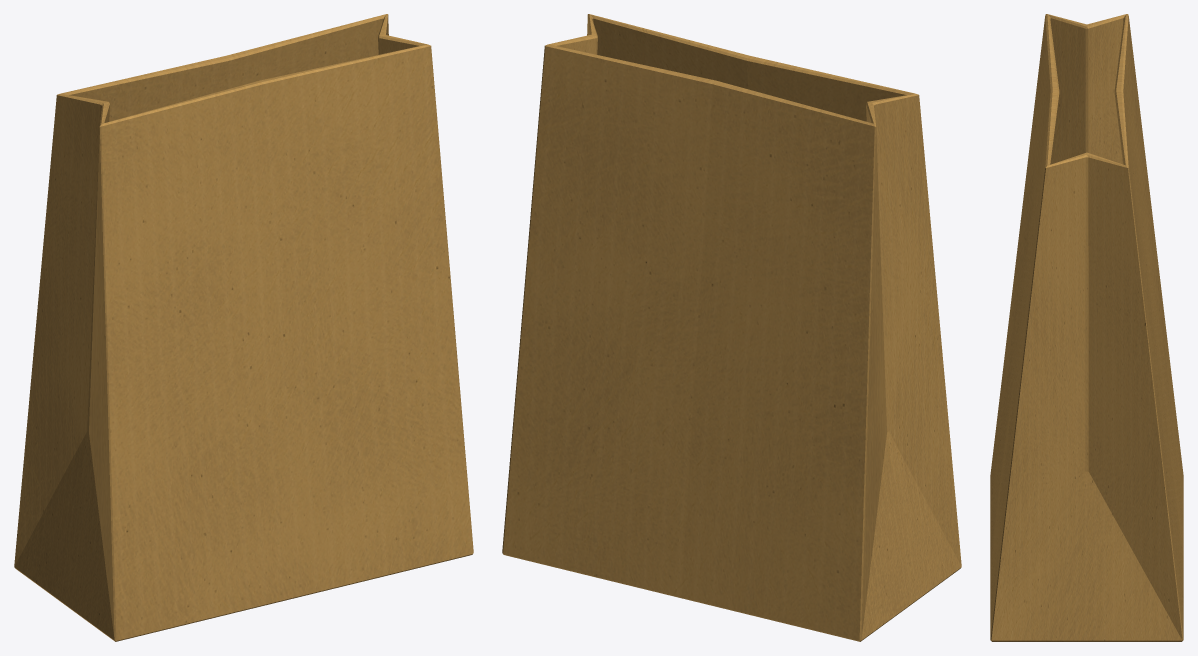
The model's file is PaperBag.fbx.
3 views of the same model, side by side, from view 1: azimuth 30°, elevation 25°; view 2: azimuth 150°, elevation 25°; view 3: azimuth 270°, elevation 25° (orthographic). The views are drawn at different scales.
Visible parts, largest first — view 1: PaperBag; view 2: PaperBag; view 3: PaperBag.
Part boxes in pixels (bbox=[...]): PaperBag: bbox=[14, 14, 473, 641]; PaperBag: bbox=[502, 14, 961, 641]; PaperBag: bbox=[990, 14, 1183, 641].
Bounding box in the file's own units: 44.34 × 58.18 × 21.68.
